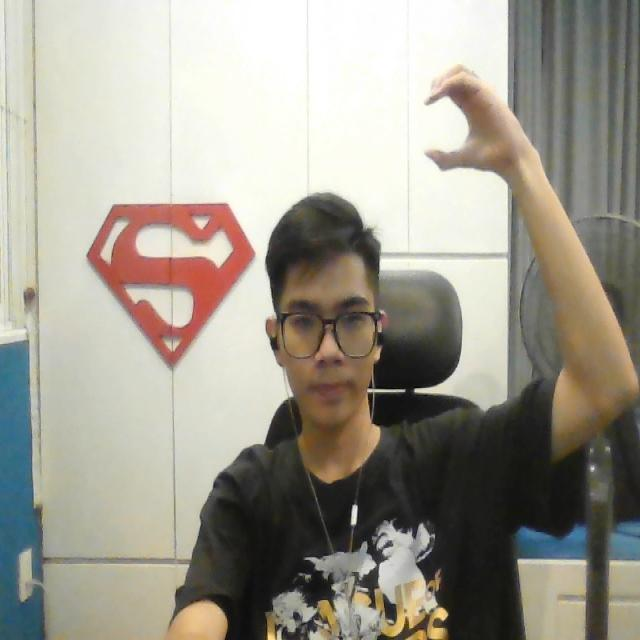C: (416, 61, 502, 180)
